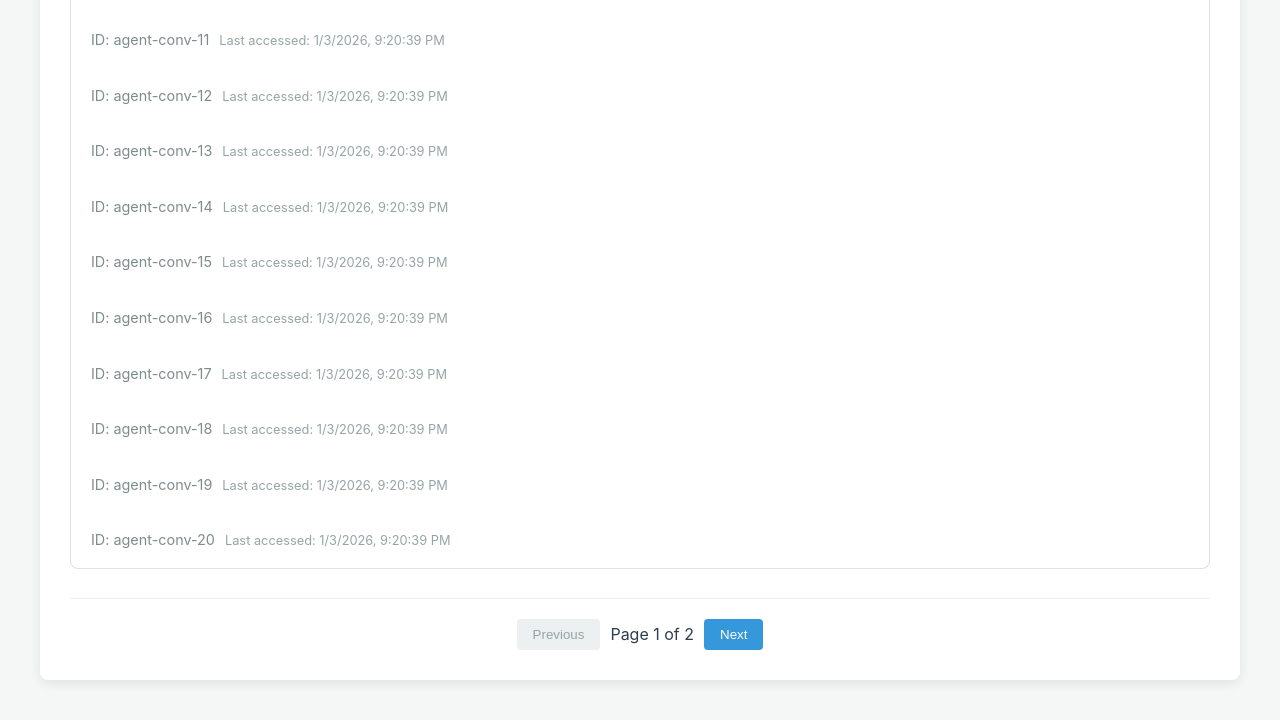
Test: AgentConversationListView › Pagination › disables Next button on last page
The image size is (1280, 720).
(page scrolled)
# Click Next to go to last page
Click the button "Next" at coordinates (734, 634), box 704,619 -> 763,650
(page scrolled)
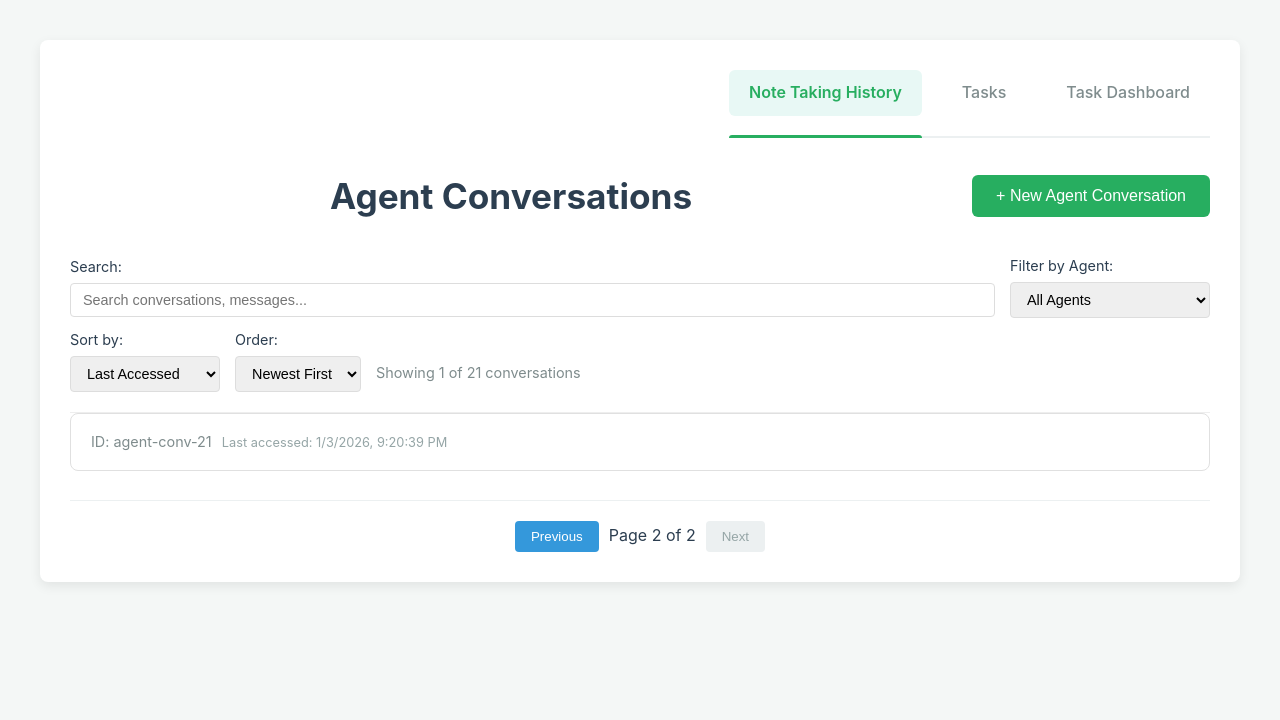
Now the button "Next" is disabled, box 706,521 -> 765,552
